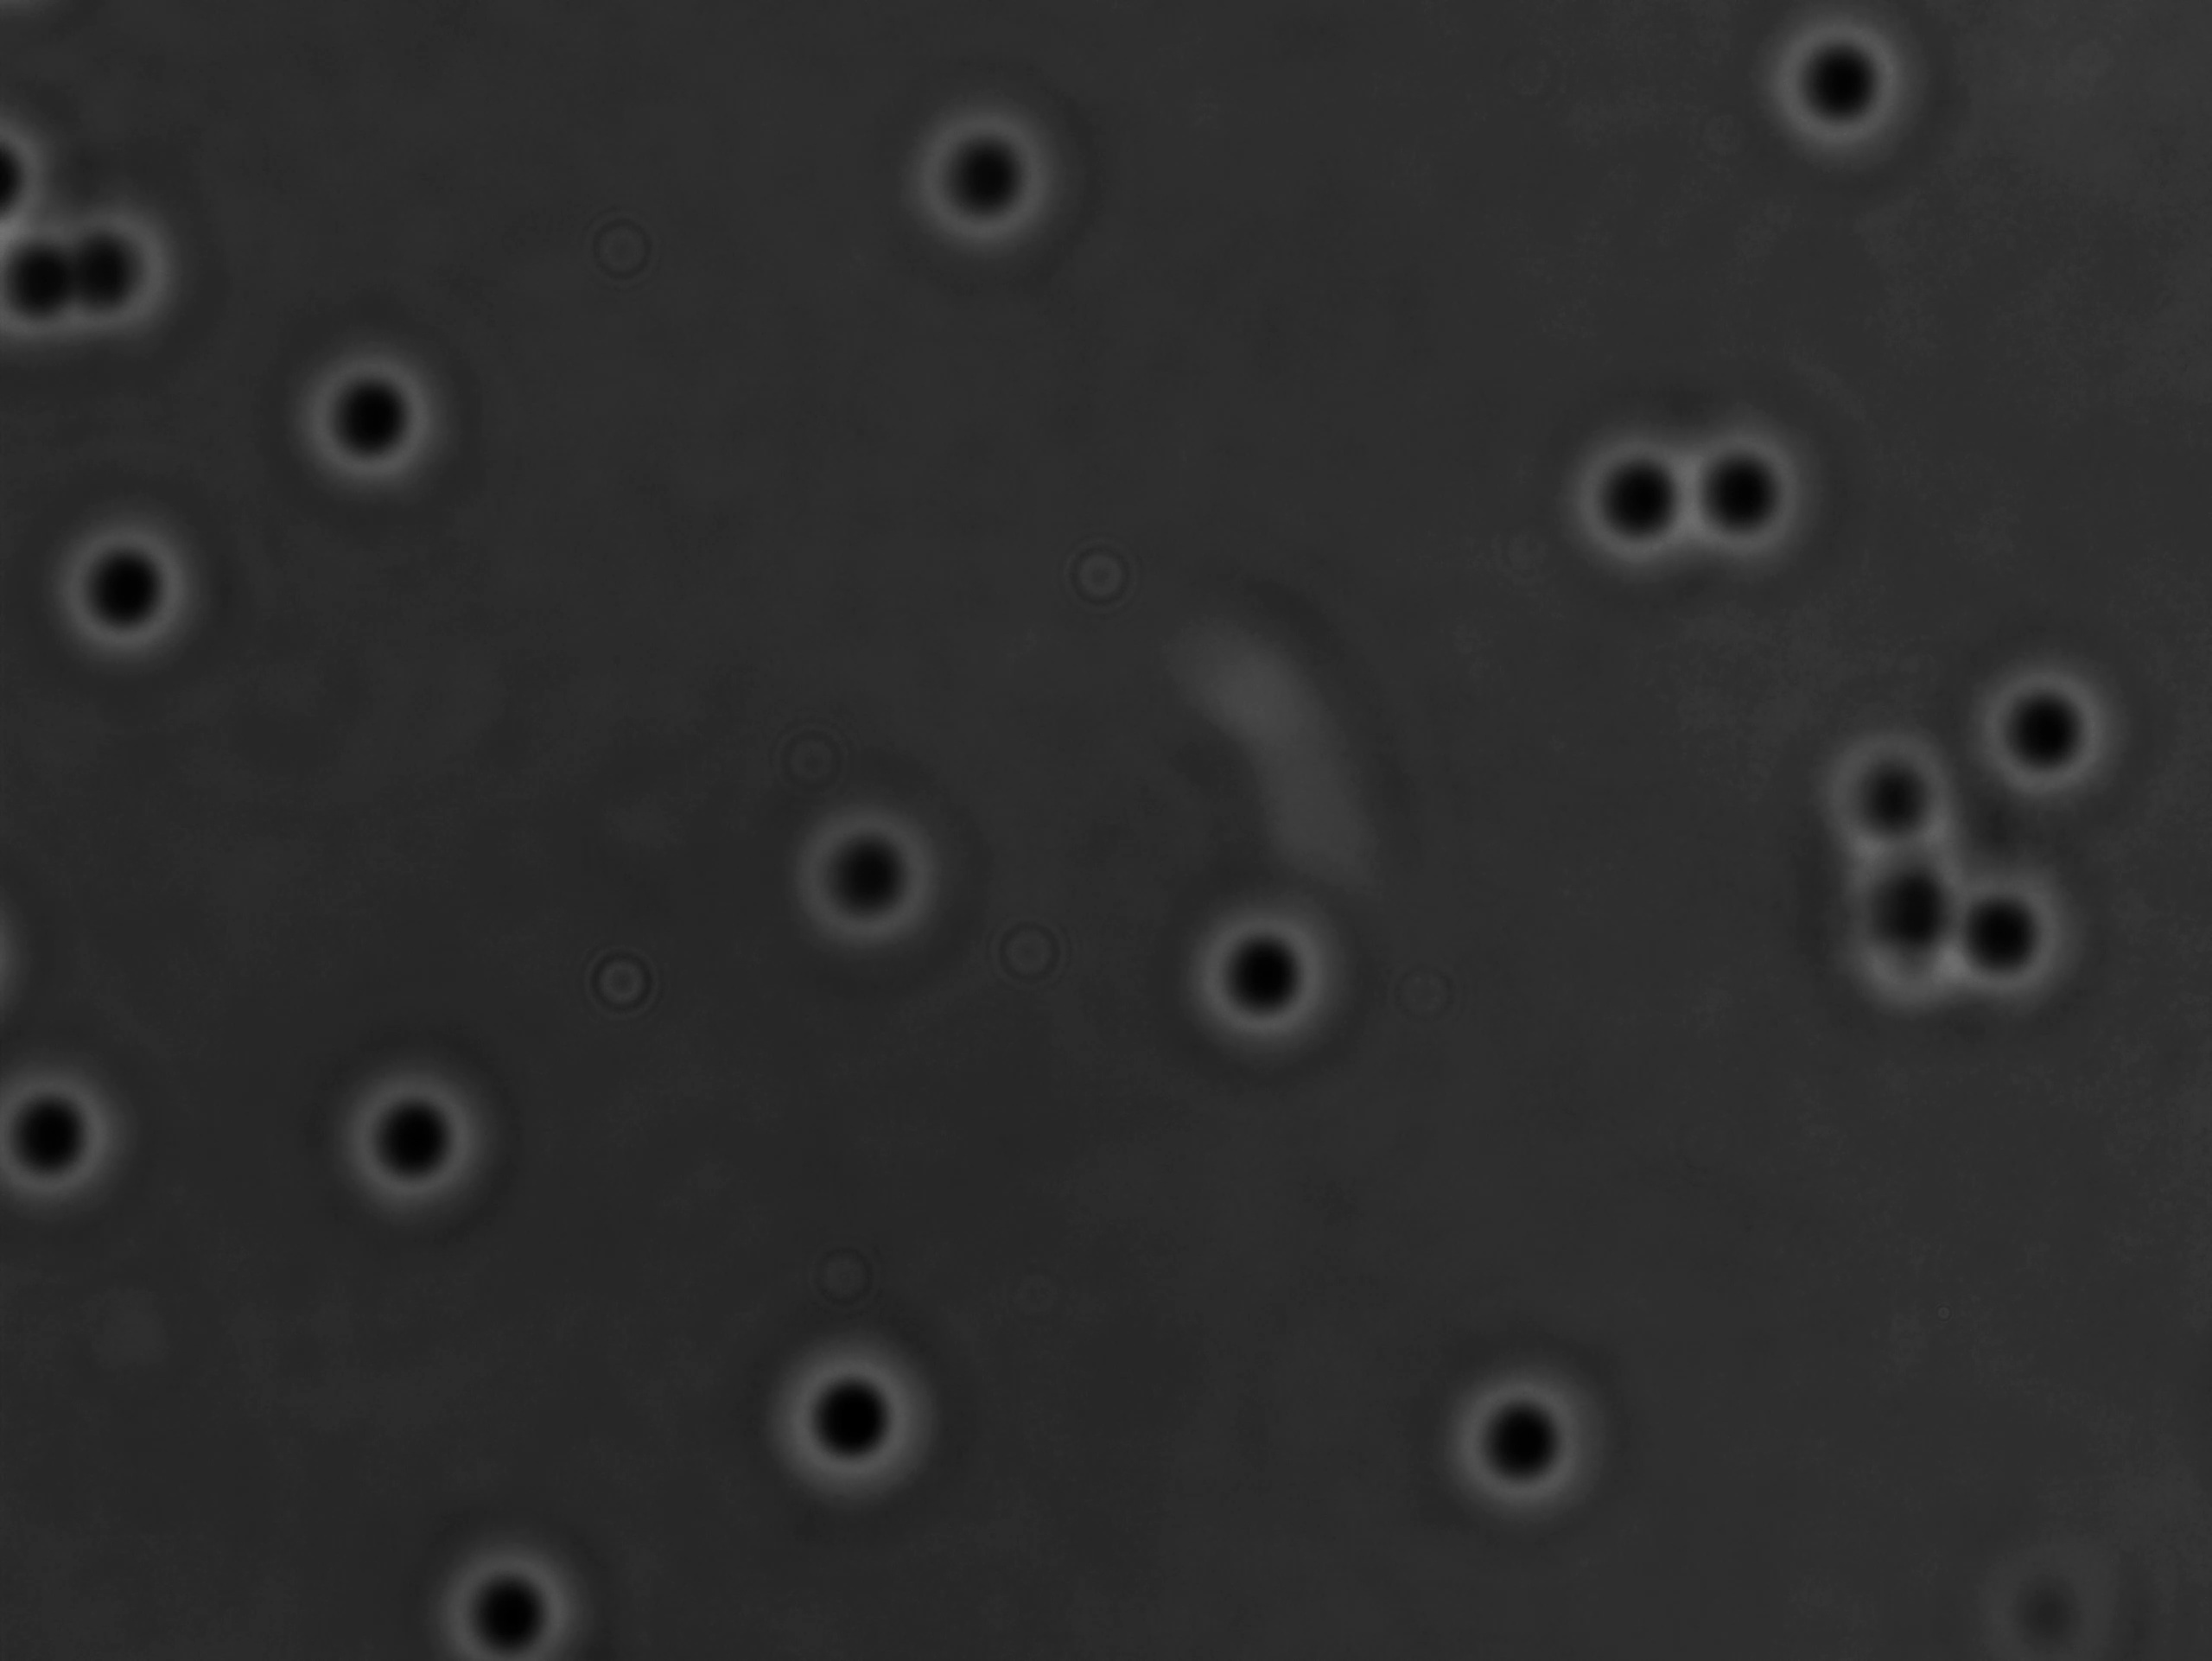depth:-80: (1942, 640, 2154, 836), (759, 1319, 956, 1521), (1739, 0, 1949, 190), (1434, 1343, 1635, 1541), (1647, 379, 1844, 579), (1176, 878, 1375, 1073), (1799, 710, 2010, 893), (1914, 839, 2116, 1026), (886, 84, 1078, 270), (776, 785, 966, 972), (323, 1042, 508, 1234), (283, 328, 468, 518), (1540, 414, 1724, 604), (45, 499, 232, 675), (420, 1530, 609, 1661)
